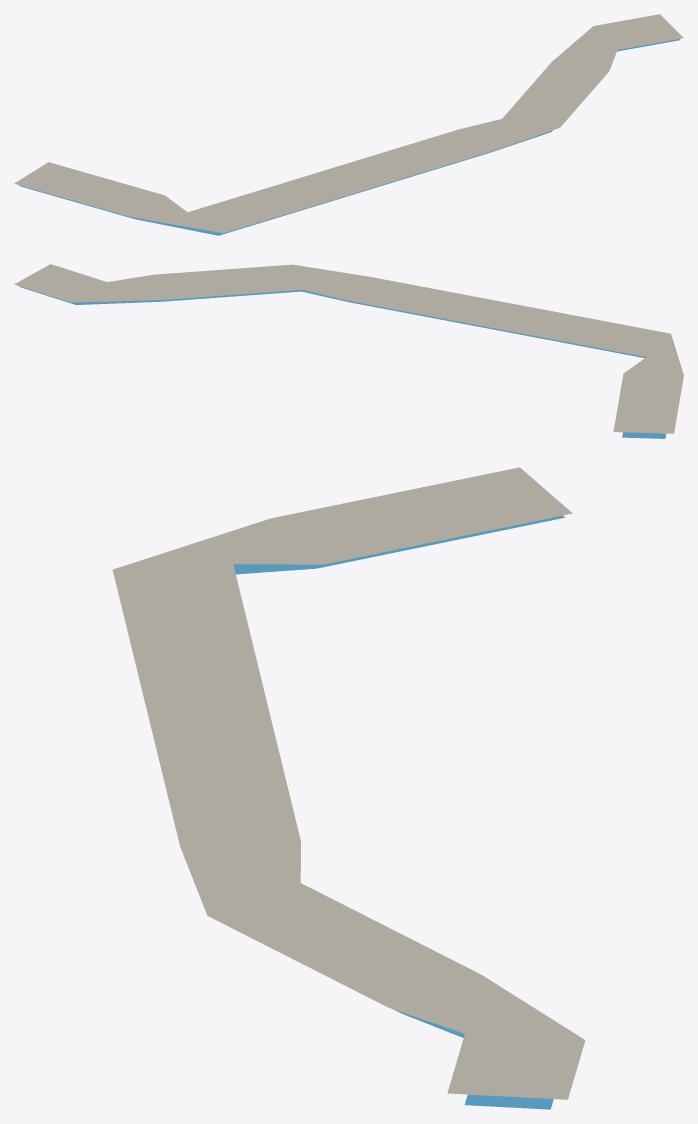
The picture shows the model from 3 angles, top to bottom: view 1: azimuth 30°, elevation 25°; view 2: azimuth 150°, elevation 25°; view 3: azimuth 270°, elevation 25°; orthographic projection. The views are drawn at different scales.
Parts seen in each view (by area): view 1: estructura_terreno, estructura_agua; view 2: estructura_terreno, estructura_agua; view 3: estructura_terreno, estructura_agua.
Boxes of the visible parts, x1,y1,x2,y2 form: estructura_terreno: (14,14,683,233); estructura_agua: (19,39,680,235); estructura_terreno: (14,264,683,433); estructura_agua: (19,286,666,438); estructura_terreno: (112,467,585,1099); estructura_agua: (233,515,564,1109).
Bounding box in the file's own units: 51.74 × 0.41 × 16.35.
